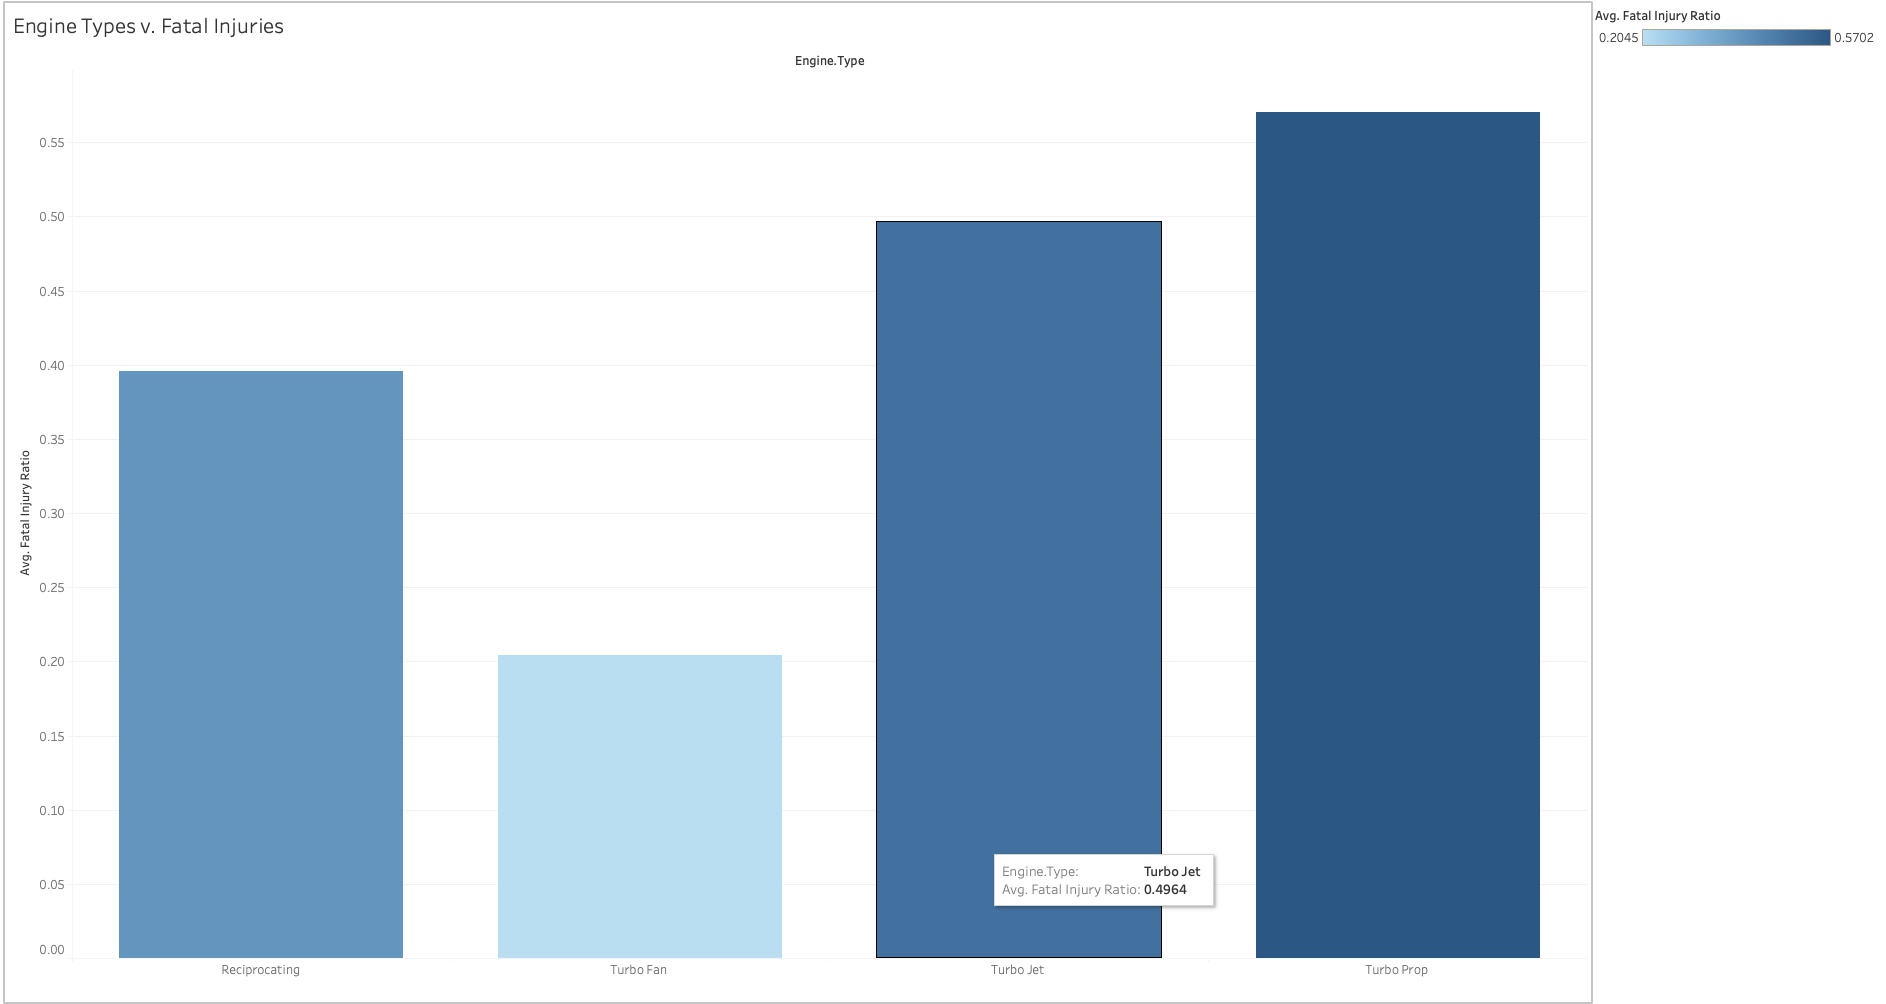

The dashboard page shown, as its layout file describes it:
{"tool":"tableau","page":{"name":"Engine Types","canvas":[1000,1000],"units":"permille","ordinal":1},"visuals":[{"type":"worksheet","title":"Engine Types v. Fatal Injuries","mark":"Automatic","rows":["Fatal_Injury_Ratio"],"cols":["Engine.Type"],"box":[4.2,7.9,837.4,984.2]},{"type":"legend","title":"Engine Types v. Fatal Injuries","param":"[federated.0o84kao1vl792v117vuy905yovts].[avg:Fatal_Injury_Ratio:qk]","box":[841.6,7.9,154.2,64]}]}

Visuals, with their boxes on the dashboard's canvas, which has no fixed pixel size, in thousandths of its width and height (x1, y1, x2, y2). These are canvas units, not pixel positions in the 1886x1004 screenshot, which may show the page scaled, cropped or inside an application window:
"Engine Types v. Fatal Injuries" worksheet: locate(4, 8, 842, 992)
"Engine Types v. Fatal Injuries" legend: locate(842, 8, 996, 72)
